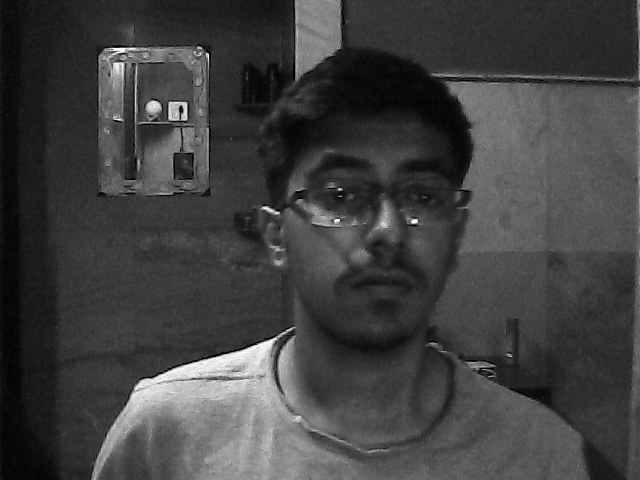nomask: (277, 118, 454, 348)
